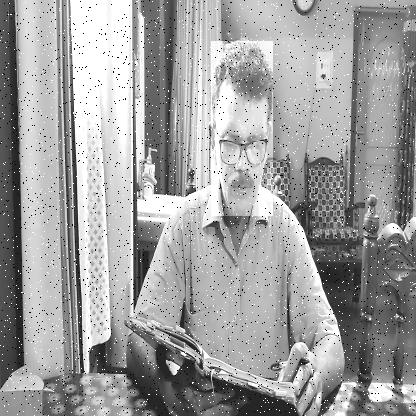Normal: (210, 41, 272, 216)
